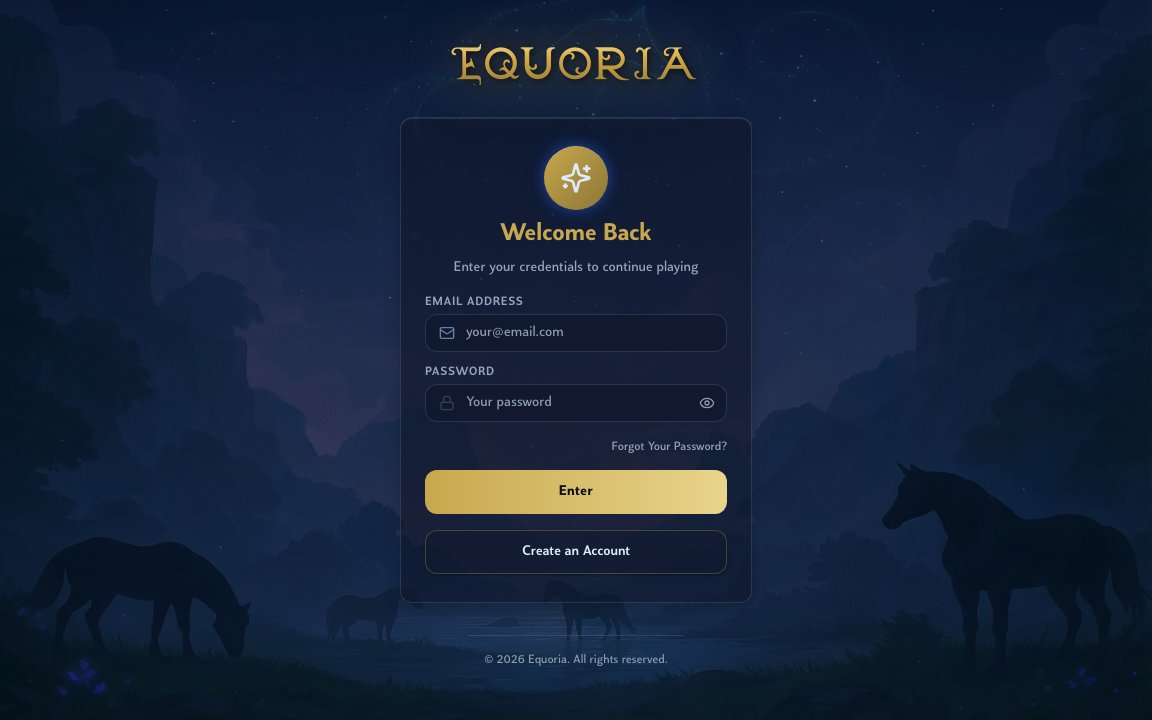
LoginPage › AC-2: Client-Side Validation › shows error for invalid email format
# Fill in fields with invalid email
In the field labelled "Email Address": [576, 332] box [425,314,727,352], type "invalid-email"
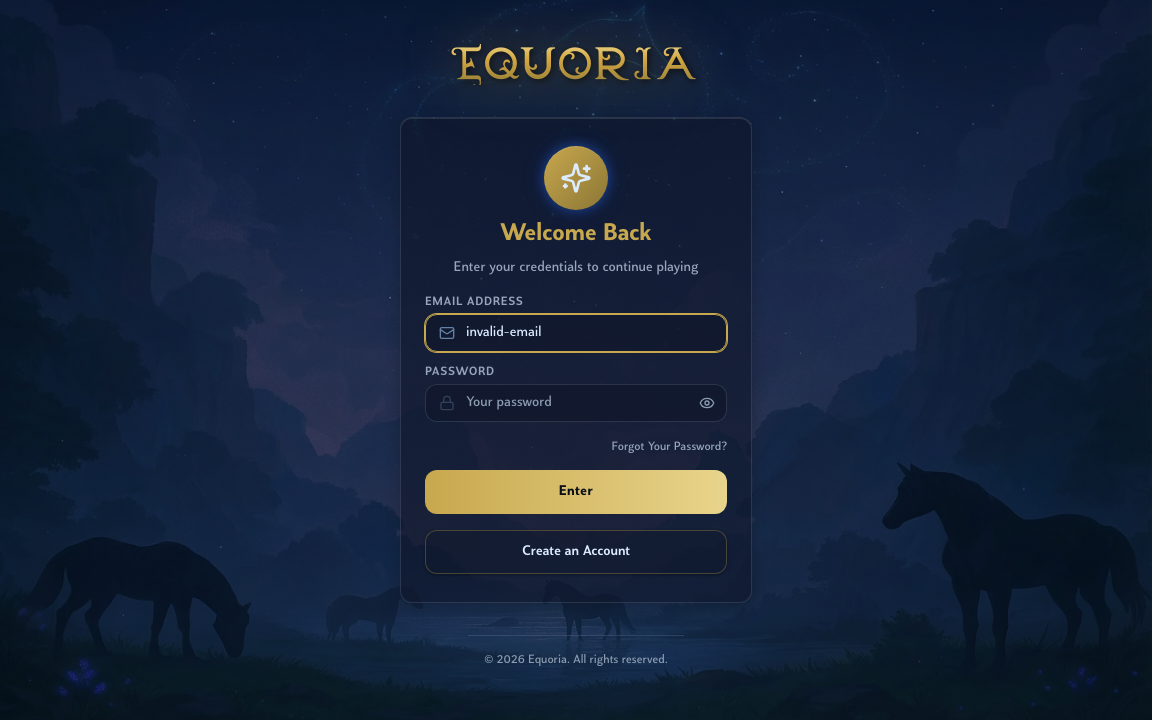
In the password field labelled "Password": [576, 402] box [425,384,727,422], type "password123"
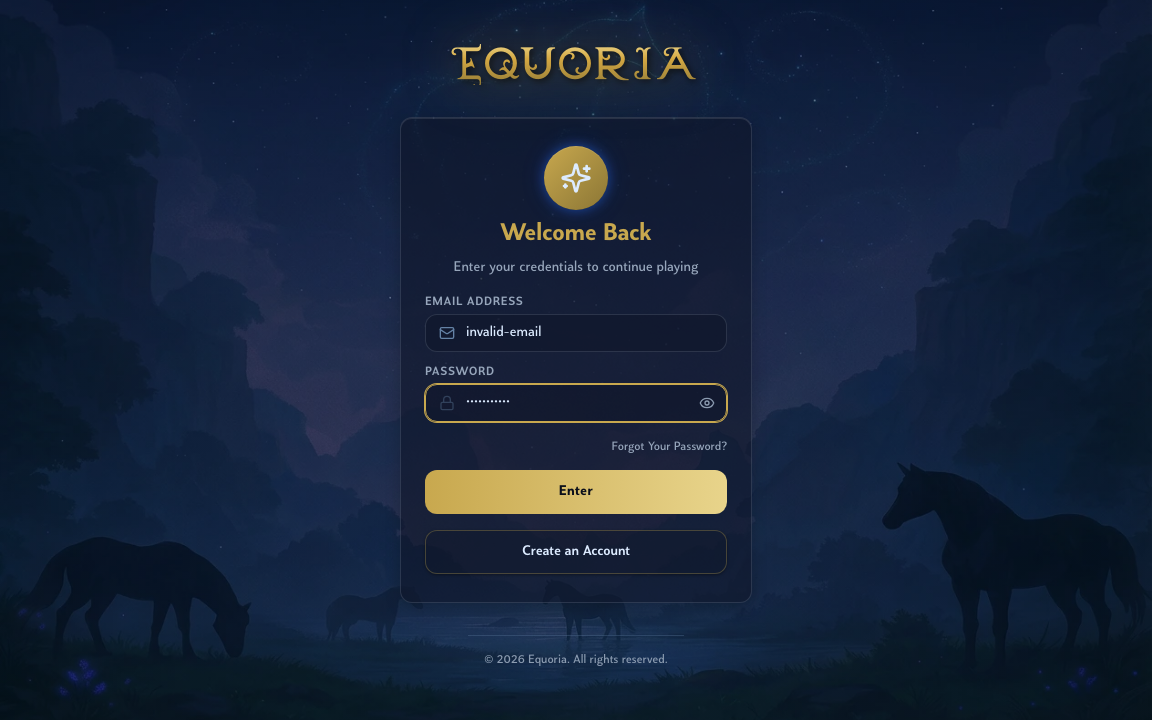
# Submit the form directly
Submit the form, box [425,294,727,514]
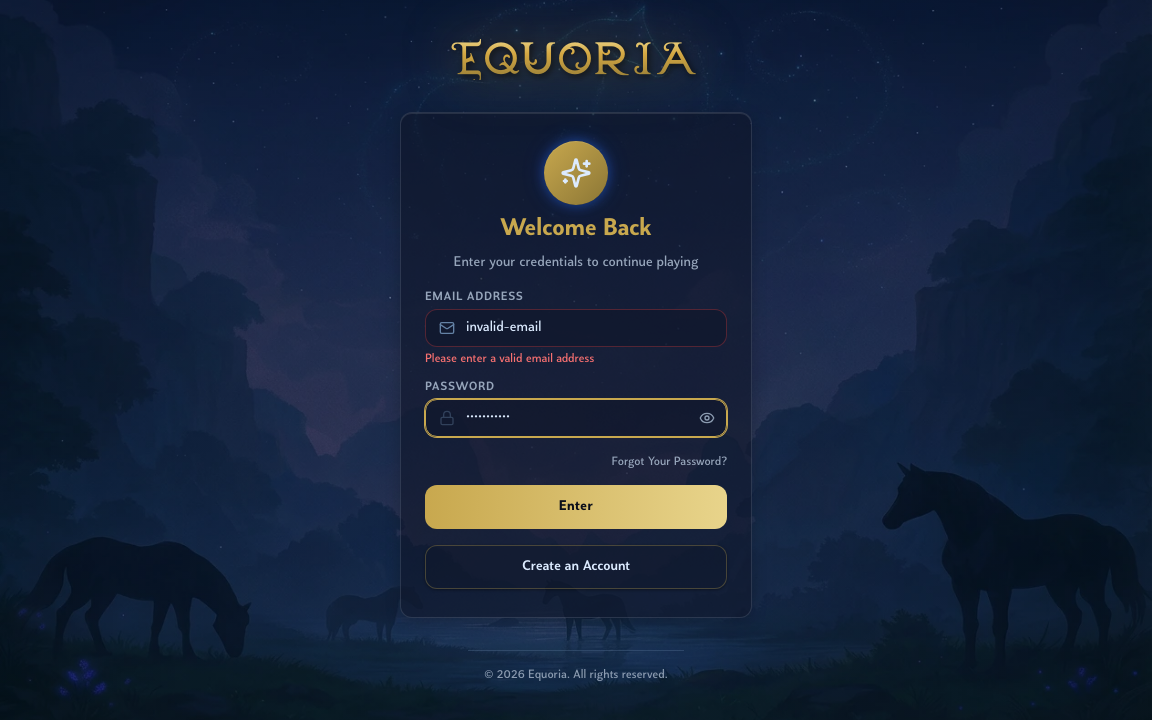
expect the text "Please enter a valid email address" is shown: met, box [425,353,594,365]
